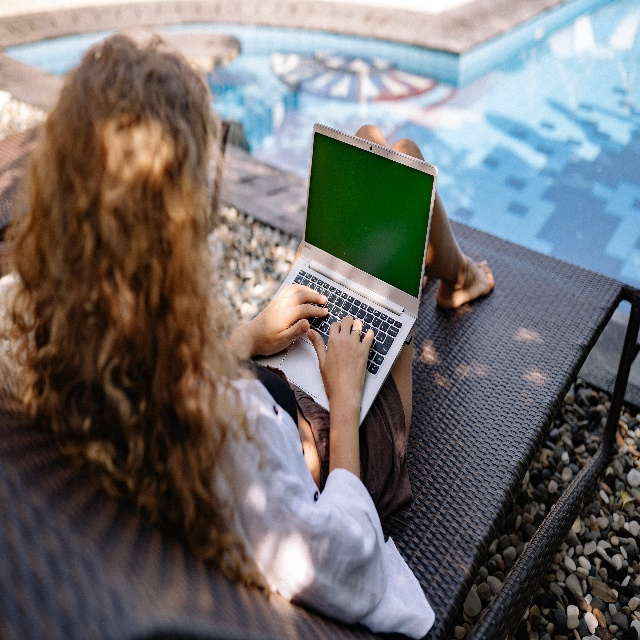Sin_guantes: (236, 282, 328, 356), (306, 311, 374, 410)
